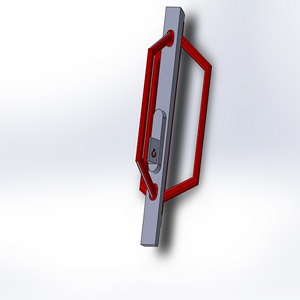submarine: (115, 1, 216, 263)
